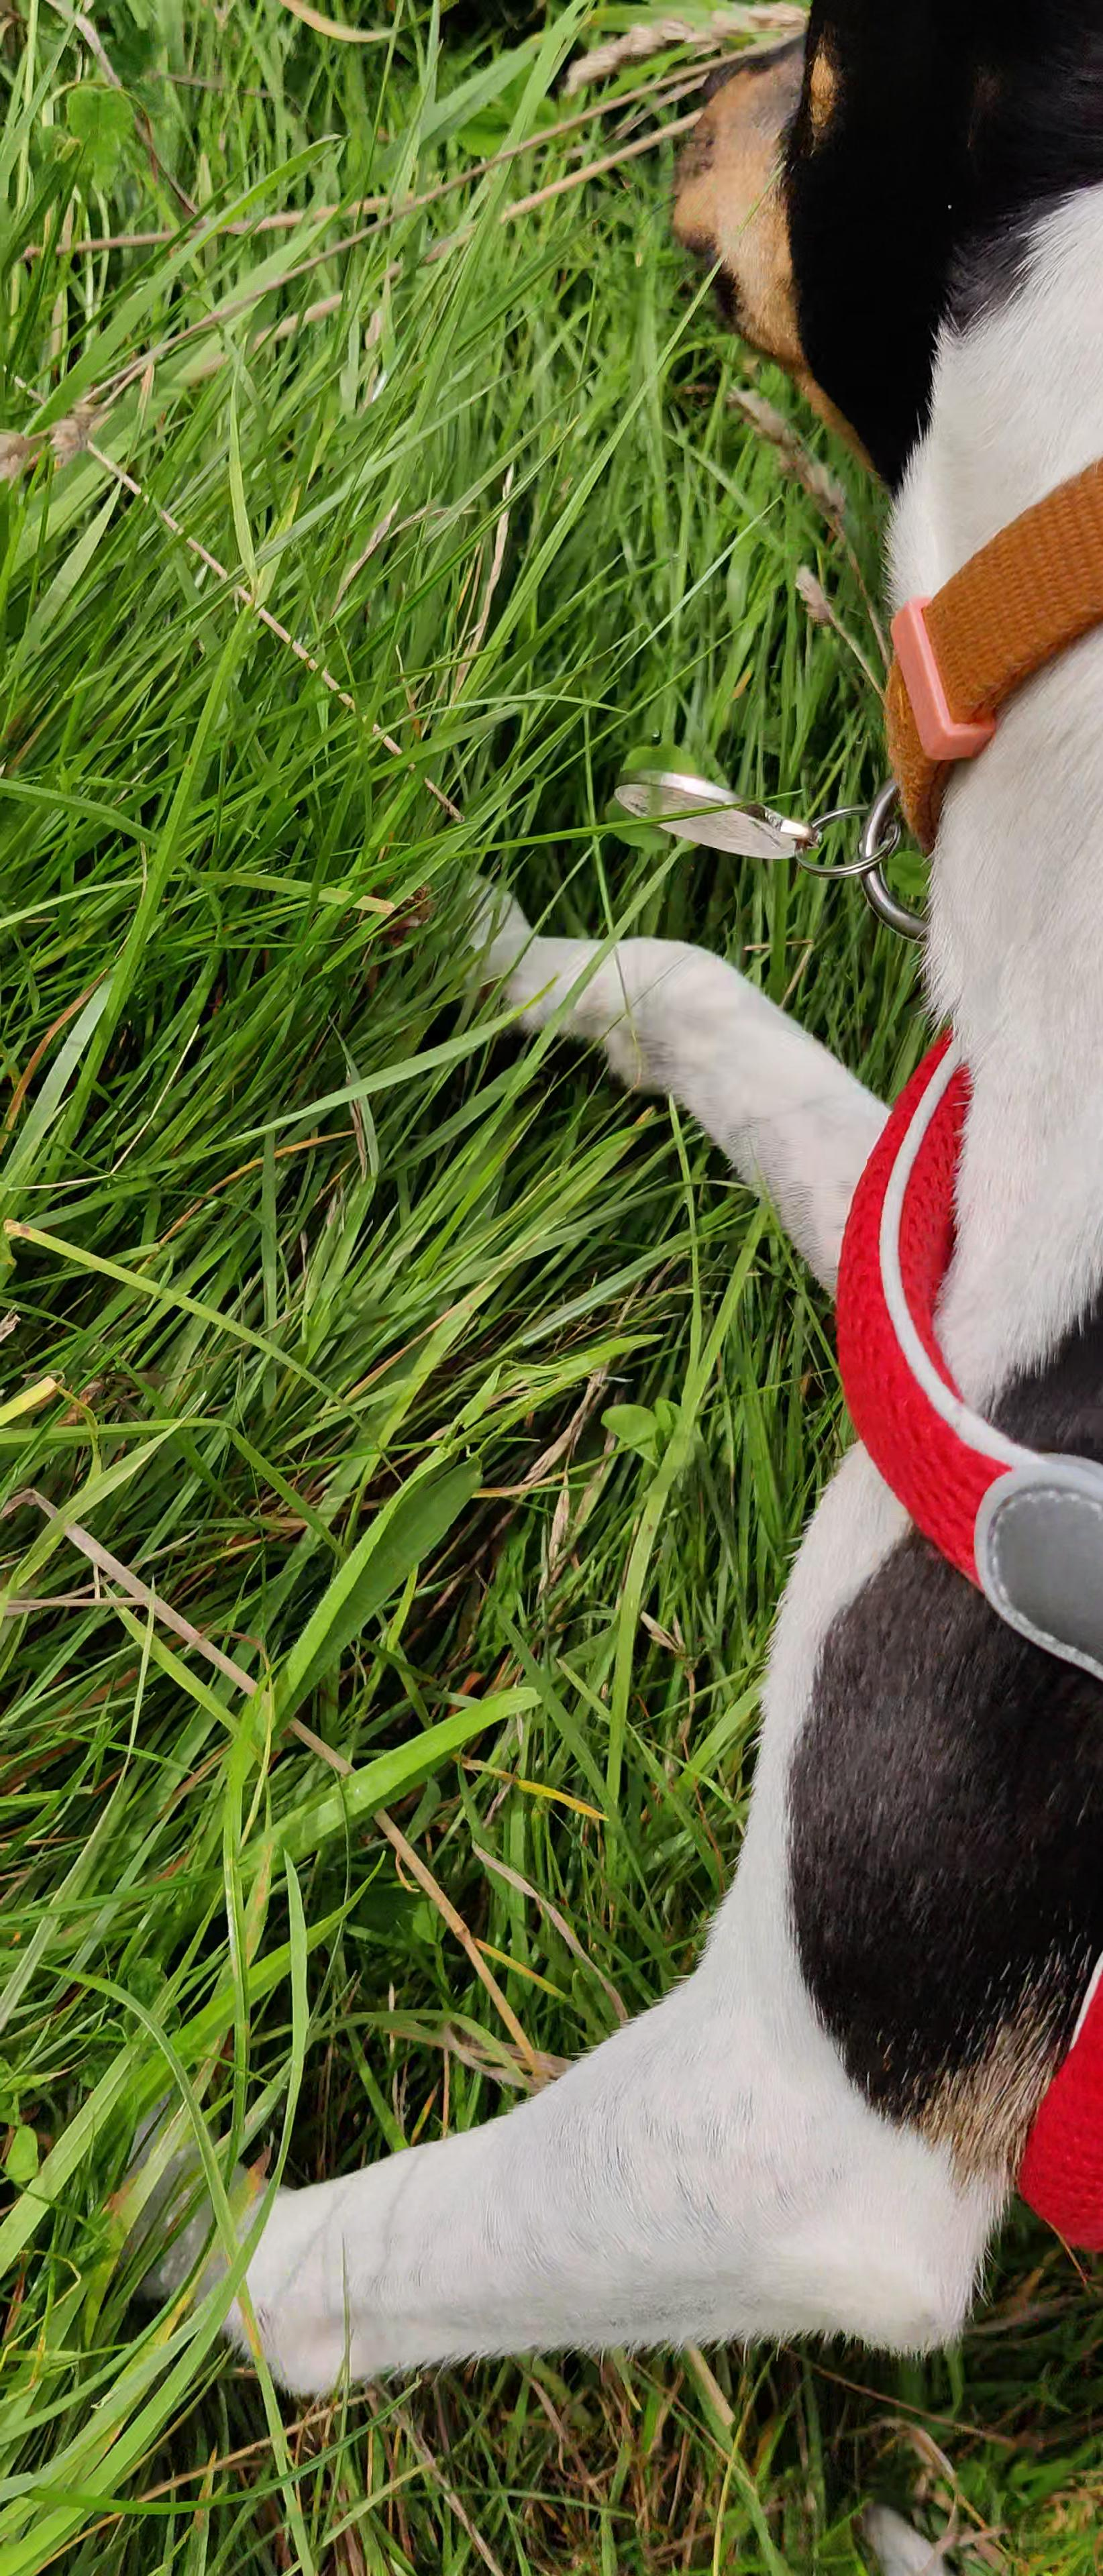Dog: (110, 0, 1103, 2415)
